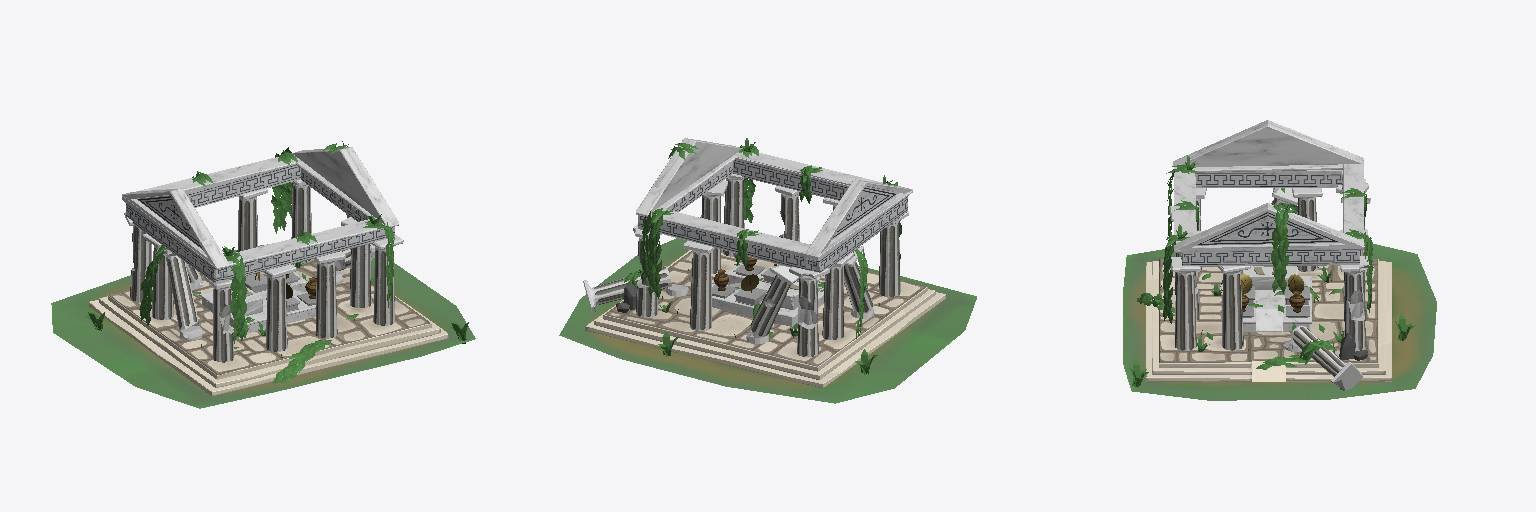
3 renders of one model, left to right at view 1: azimuth 30°, elevation 25°; view 2: azimuth 150°, elevation 25°; view 3: azimuth 270°, elevation 25°, orthographic.
Visible parts, largest first — view 1: Building_Mesh; view 2: Building_Mesh; view 3: Building_Mesh.
Boxes of the visible parts, box(x1,y1,x2,y2) form: Building_Mesh: box(51, 141, 475, 408); Building_Mesh: box(559, 138, 976, 403); Building_Mesh: box(1123, 120, 1436, 400).
Size of the model in its own units: 12.76 by 6.77 by 10.53.
2 materials, 2 textured.